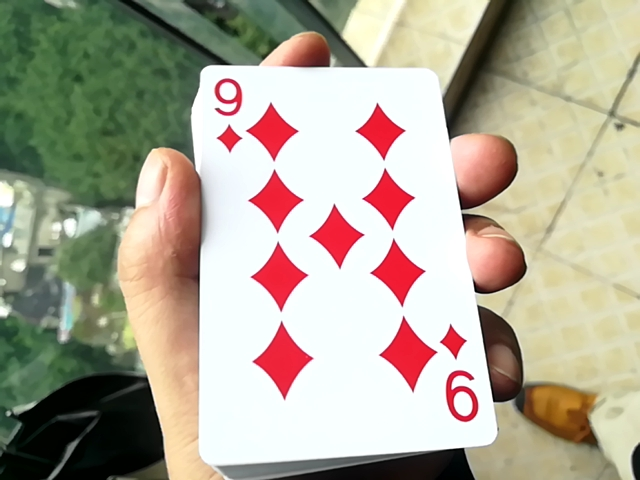fk 9: (169, 41, 491, 469)
